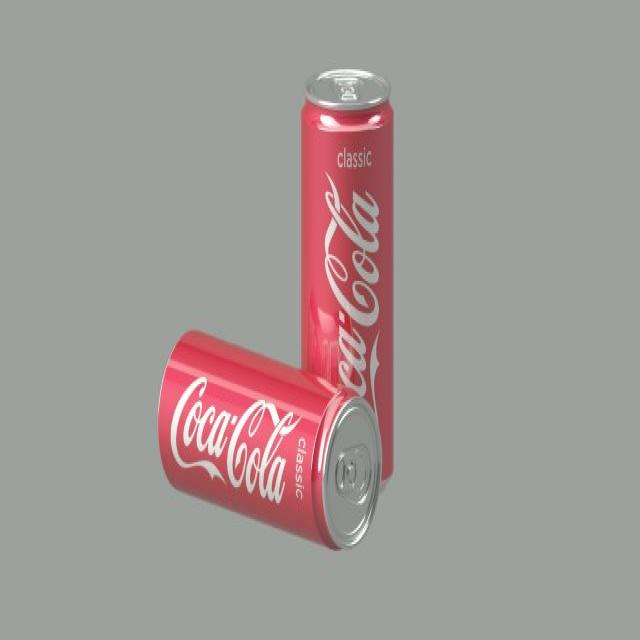cocacola: (152, 327, 381, 556), (301, 63, 396, 472)
